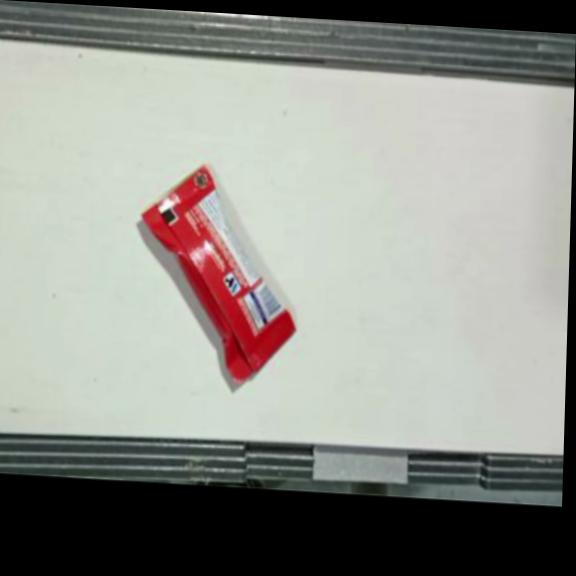Plastik: (136, 161, 300, 390)
